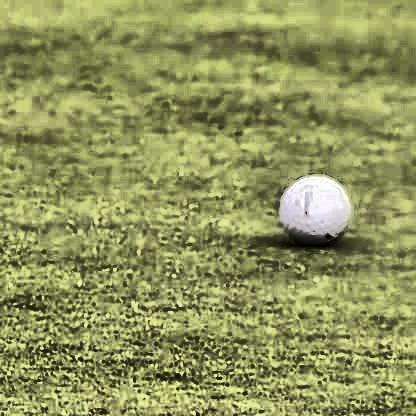golfball: (279, 169, 349, 240)
